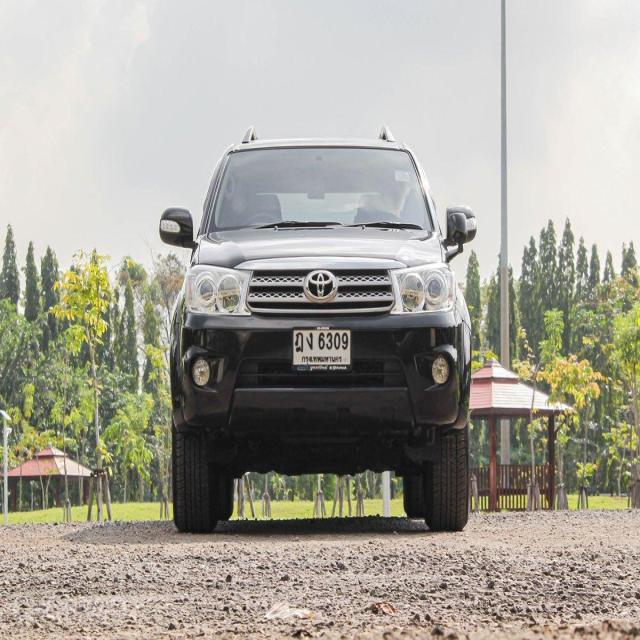license_plate: (291, 326, 354, 374)
